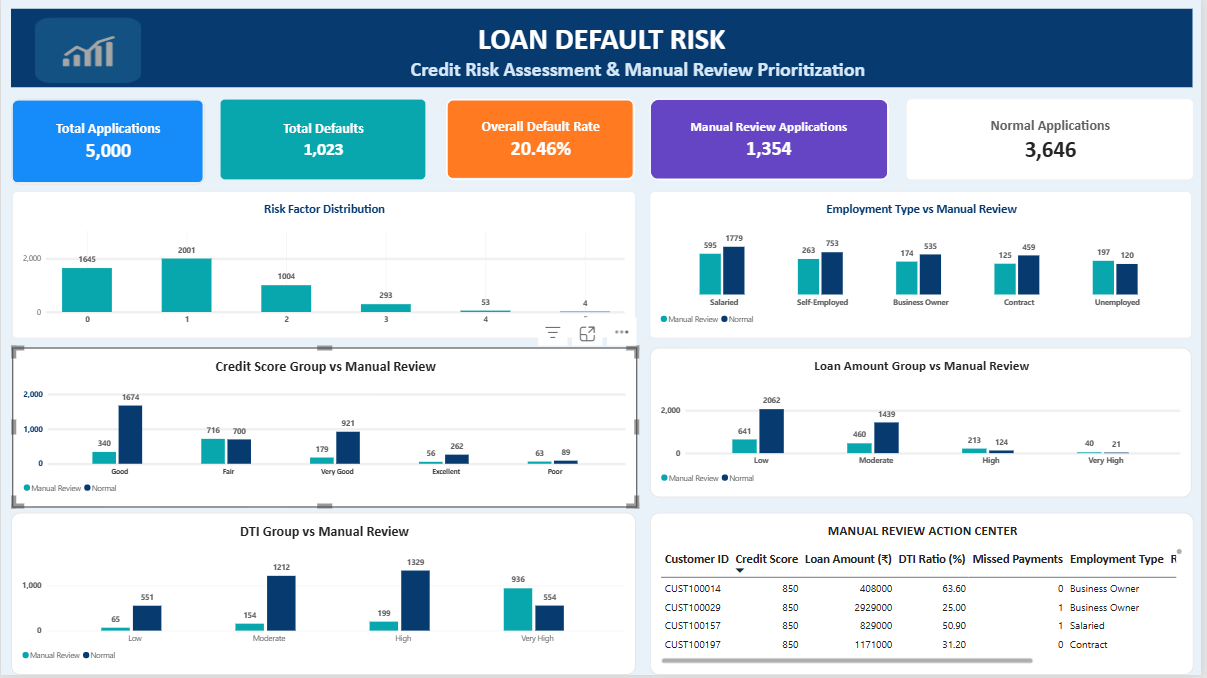

The dashboard page shown, as its layout file describes it:
{"tool":"powerbi","page":{"name":"Page 1","canvas":[1920,1080],"ordinal":0},"visuals":[{"type":"cardVisual","fields":{"Data":["Loan_Default_Risk_PowerBI.Total Applications"]},"box":[15,157.5,310,137.5],"z":0},{"type":"cardVisual","fields":{"Data":["Loan_Default_Risk_PowerBI.Total Defaults"]},"box":[350,157.5,330,130],"z":1000},{"type":"cardVisual","fields":{"Data":["Loan_Default_Risk_PowerBI.Overall Default Rate"]},"box":[712.5,157.5,302.5,130],"z":2000},{"type":"cardVisual","fields":{"Data":["Loan_Default_Risk_PowerBI.Manual Review Applications"]},"box":[1037.5,157.5,382.5,130],"z":3000},{"type":"tableEx","title":"MANUAL REVIEW ACTION CENTER","fields":{"Values":["Loan_Default_Risk_PowerBI.Customer_ID","Loan_Default_Risk_PowerBI.Credit_Score","Loan_Default_Risk_PowerBI.Loan_Amount_INR","Loan_Default_Risk_PowerBI.DTI_Ratio_Pct","Loan_Default_Risk_PowerBI.Missed_Payments","Loan_Default_Risk_PowerBI.Employment_Type","Loan_Default_Risk_PowerBI.Risk Factor Count","Loan_Default_Risk_PowerBI.Manual Review Flag"]},"box":[1037.5,820,870,260],"z":4000},{"type":"clusteredColumnChart","title":"Risk Factor Distribution","fields":{"Category":["Loan_Default_Risk_PowerBI.Risk Factor Count"],"Y":["Count(Loan_Default_Risk_PowerBI.Customer_ID)"]},"box":[17.5,305,997.5,235],"z":5000},{"type":"clusteredColumnChart","title":"Employment Type vs Manual Review","fields":{"Category":["Loan_Default_Risk_PowerBI.Employment_Type"],"Series":["Loan_Default_Risk_PowerBI.Manual Review Flag"],"Y":["Count(Loan_Default_Risk_PowerBI.Customer_ID)"]},"box":[1037.5,305,867.5,235],"z":6000},{"type":"clusteredColumnChart","title":"Credit Score Group vs Manual Review","fields":{"Category":["Loan_Default_Risk_PowerBI.Credit_Score_Group"],"Series":["Loan_Default_Risk_PowerBI.Manual Review Flag"],"Y":["Count(Loan_Default_Risk_PowerBI.Customer_ID)"]},"box":[17.5,555,1000,256],"z":7000},{"type":"clusteredColumnChart","title":"Loan Amount Group vs Manual Review","fields":{"Category":["Loan_Default_Risk_PowerBI.Loan_Amount_Group"],"Series":["Loan_Default_Risk_PowerBI.Manual Review Flag"],"Y":["Count(Loan_Default_Risk_PowerBI.Customer_ID)"]},"box":[1037.5,555,867.5,240],"z":8000},{"type":"clusteredColumnChart","title":"DTI Group vs Manual Review","fields":{"Category":["Loan_Default_Risk_PowerBI.DTI_Group"],"Series":["Loan_Default_Risk_PowerBI.Manual Review Flag"],"Y":["Count(Loan_Default_Risk_PowerBI.Customer_ID)"]},"box":[16,820,1000,260],"z":9000},{"type":"textbox","box":[15.7,13.7,1890.2,125.5],"z":10000},{"type":"cardVisual","fields":{"Data":["Loan_Default_Risk_PowerBI.Normal Applications"]},"box":[1447.5,157.5,460,130],"z":11000},{"type":"image","box":[54.9,27.5,170,105],"z":12000}]}

Visuals, with their boxes in screenshot pixels (x1, y1, x2, y2), scaled from the page's 1920x1080 canvas onto the 1207x678 screenshot:
cardVisual - Loan_Default_Risk_PowerBI.Total Applications: x1=9 y1=99 x2=204 y2=185
cardVisual - Loan_Default_Risk_PowerBI.Total Defaults: x1=220 y1=99 x2=427 y2=180
cardVisual - Loan_Default_Risk_PowerBI.Overall Default Rate: x1=448 y1=99 x2=638 y2=180
cardVisual - Loan_Default_Risk_PowerBI.Manual Review Applications: x1=652 y1=99 x2=893 y2=180
"MANUAL REVIEW ACTION CENTER" tableEx: x1=652 y1=515 x2=1199 y2=677
"Risk Factor Distribution" clusteredColumnChart: x1=11 y1=191 x2=638 y2=339
"Employment Type vs Manual Review" clusteredColumnChart: x1=652 y1=191 x2=1198 y2=339
"Credit Score Group vs Manual Review" clusteredColumnChart: x1=11 y1=348 x2=640 y2=509
"Loan Amount Group vs Manual Review" clusteredColumnChart: x1=652 y1=348 x2=1198 y2=499
"DTI Group vs Manual Review" clusteredColumnChart: x1=10 y1=515 x2=639 y2=677
textbox: x1=10 y1=9 x2=1198 y2=87
cardVisual - Loan_Default_Risk_PowerBI.Normal Applications: x1=910 y1=99 x2=1199 y2=180
image: x1=35 y1=17 x2=141 y2=83
